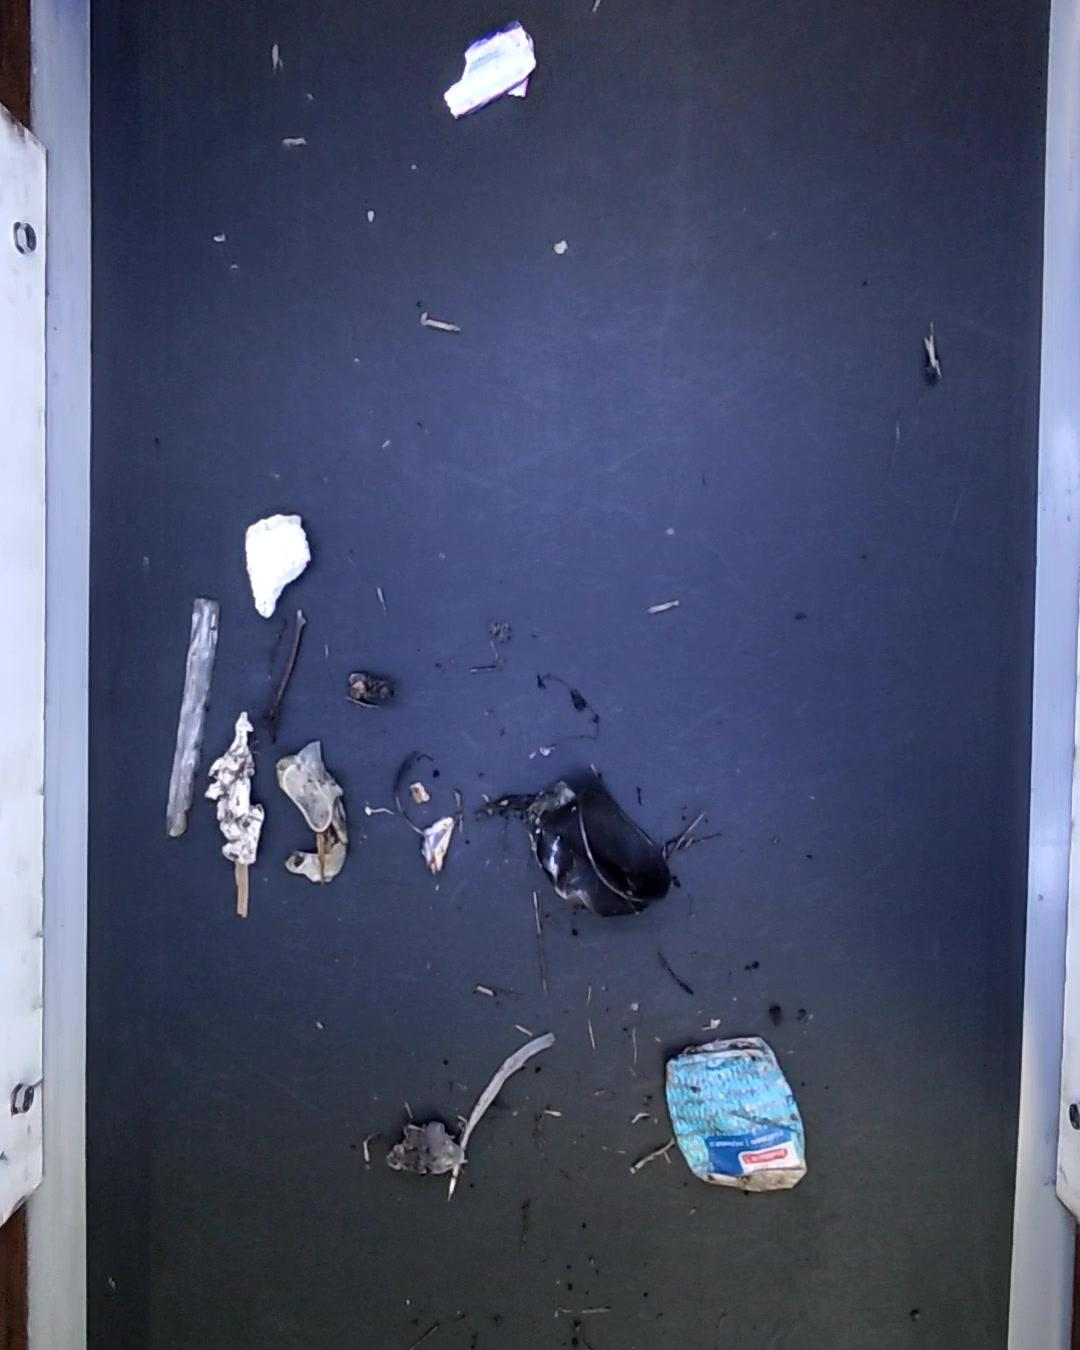Plastic folies of stukken daarvan 2.5- 50 cm: (163, 598, 217, 838)
Snoep snack en chips verpakkingen: (440, 18, 538, 121)
